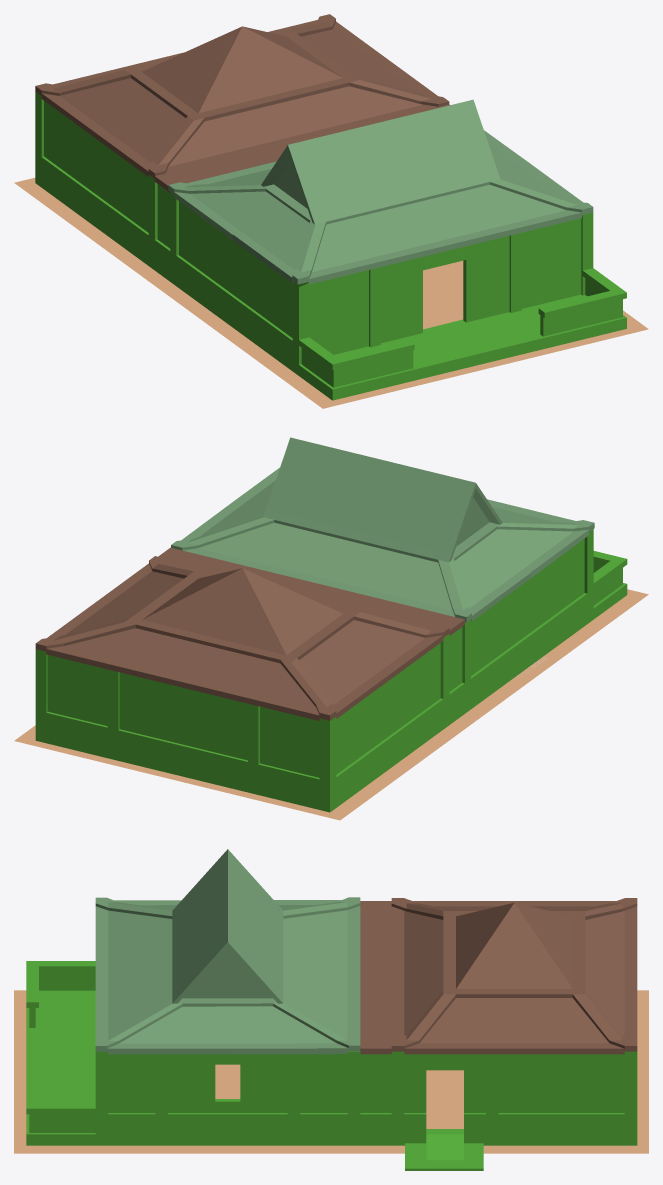
The model's file is Andi Rotan.glb.
3 views of the same model, one above another, from view 1: azimuth 30°, elevation 25°; view 2: azimuth 150°, elevation 25°; view 3: azimuth 270°, elevation 25° (orthographic). The views are drawn at different scales.
Visible parts, largest first — view 1: Cube, Cube.003, Cube.001, Plane.001; view 2: Cube, Cube.001, Cube.003, Plane.001; view 3: Cube, Cube.003, Cube.001, Plane.001.
Boxes of the visible parts, bbox=[...] form: Cube: bbox=[35, 92, 626, 400]; Cube.003: bbox=[168, 99, 593, 284]; Cube.001: bbox=[35, 14, 450, 192]; Plane.001: bbox=[14, 177, 648, 408]; Cube: bbox=[35, 529, 627, 812]; Cube.001: bbox=[35, 547, 464, 720]; Cube.003: bbox=[171, 437, 594, 622]; Plane.001: bbox=[14, 589, 648, 820]; Cube: bbox=[26, 961, 637, 1170]; Cube.003: bbox=[95, 849, 360, 1054]; Cube.001: bbox=[360, 898, 637, 1054]; Plane.001: bbox=[14, 990, 648, 1153].
Size of the model in its own units: 136 by 61.6 by 202.
